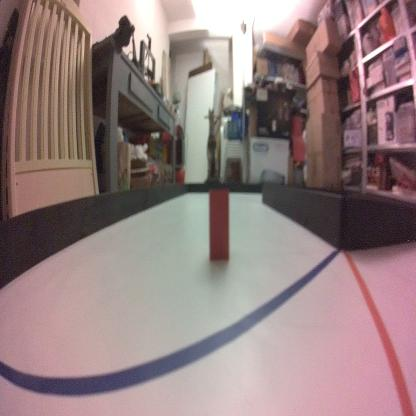red: (208, 186, 230, 262)
